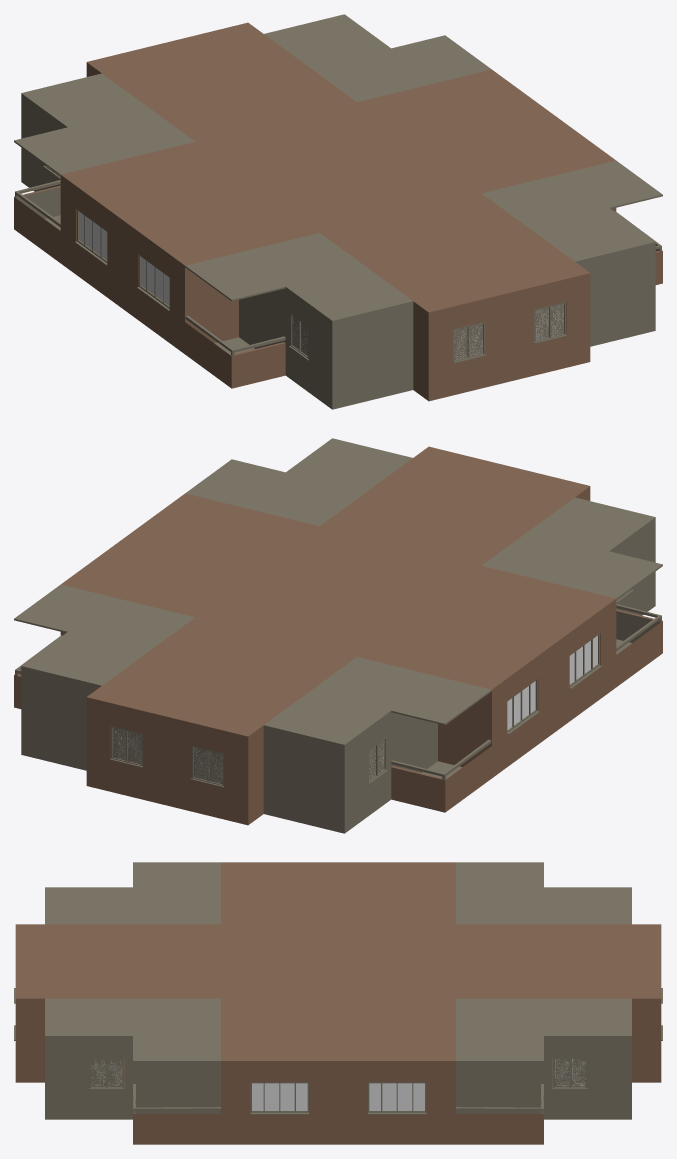
The model's file is kat.fbx.
3 views of the same model, one above another, from view 1: azimuth 30°, elevation 25°; view 2: azimuth 150°, elevation 25°; view 3: azimuth 270°, elevation 25° (orthographic). The views are drawn at different scales.
Parts seen in each view (by area): view 1: Plane.002; view 2: Plane.002; view 3: Plane.002.
Part boxes in pixels (x1=…): Plane.002: x1=14, y1=14, x2=662, y2=409; Plane.002: x1=14, y1=438, x2=662, y2=833; Plane.002: x1=14, y1=862, x2=662, y2=1144.
Size of the model in its own units: 1610 by 315 by 2211.
